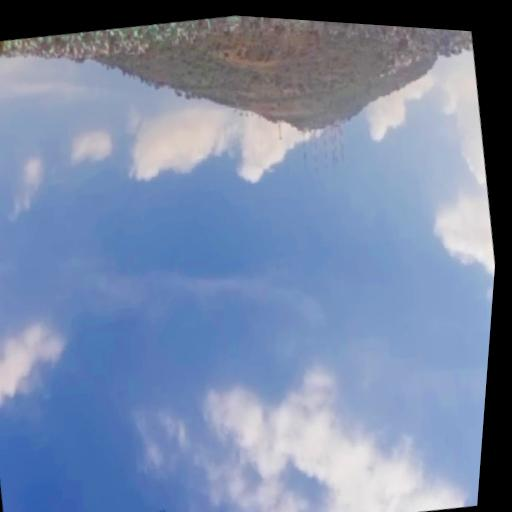drones: (149, 500, 171, 512)
